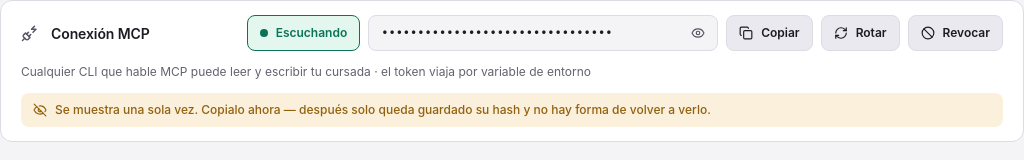
Test: McpTokenCard › reveals the token when the eye is pressed, and hides it again on the second press
Click the button named "Mostrar token" at (698, 33), box x1=691 y1=26 x2=705 y2=40
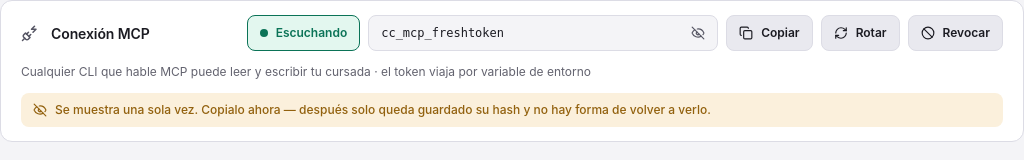
Now the text "cc_mcp_freshtoken" is shown, box x1=381 y1=26 x2=504 y2=40
Click the button named "Ocultar token" at (698, 33), box x1=691 y1=26 x2=705 y2=40
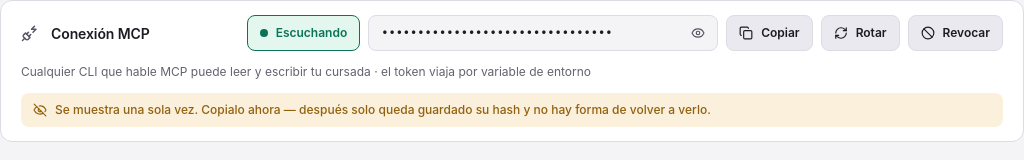
Now the text "cc_mcp_freshtoken" is gone
